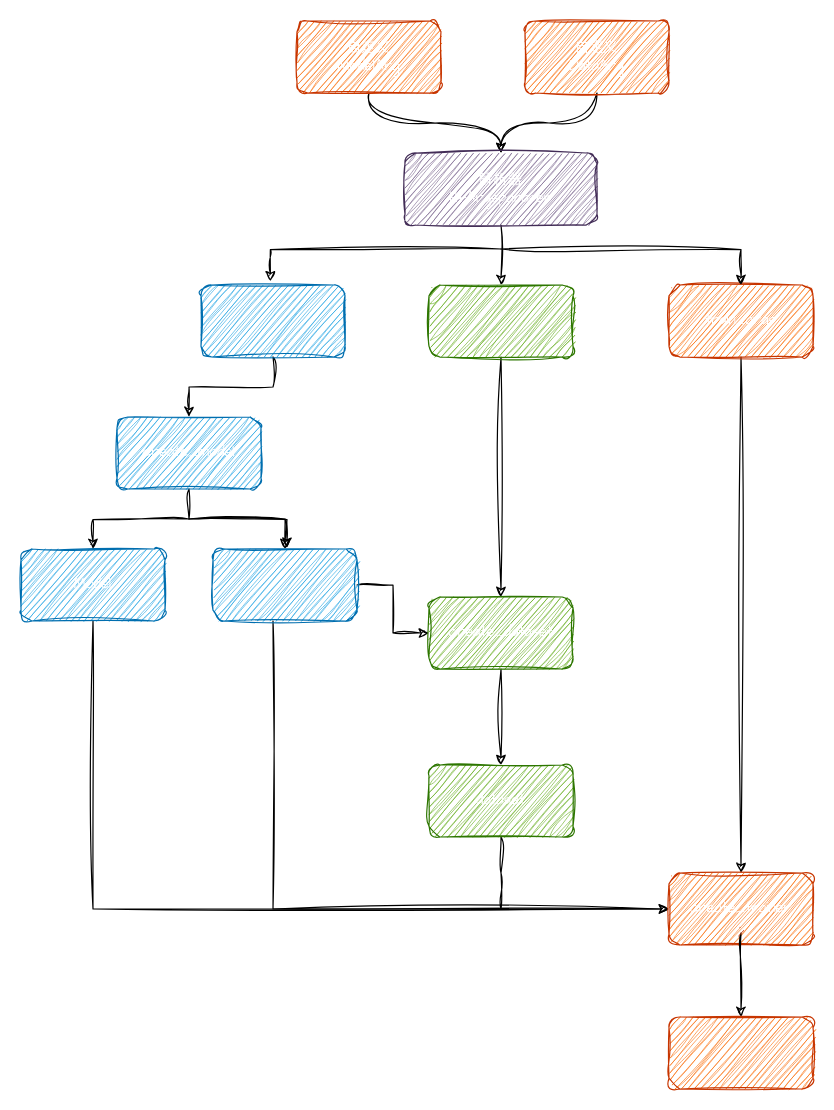
This 834x1110 diagram has some shape labels left out. The shapes that lost their labels are listed below. From the top down, each one's box as (x1, y1, x2, y2) in pixels, then its label:
(200, 284, 345, 357): model_args
(428, 284, 573, 357): data_args
(212, 548, 357, 621): Tokenizer
(668, 1016, 813, 1089): trainer
